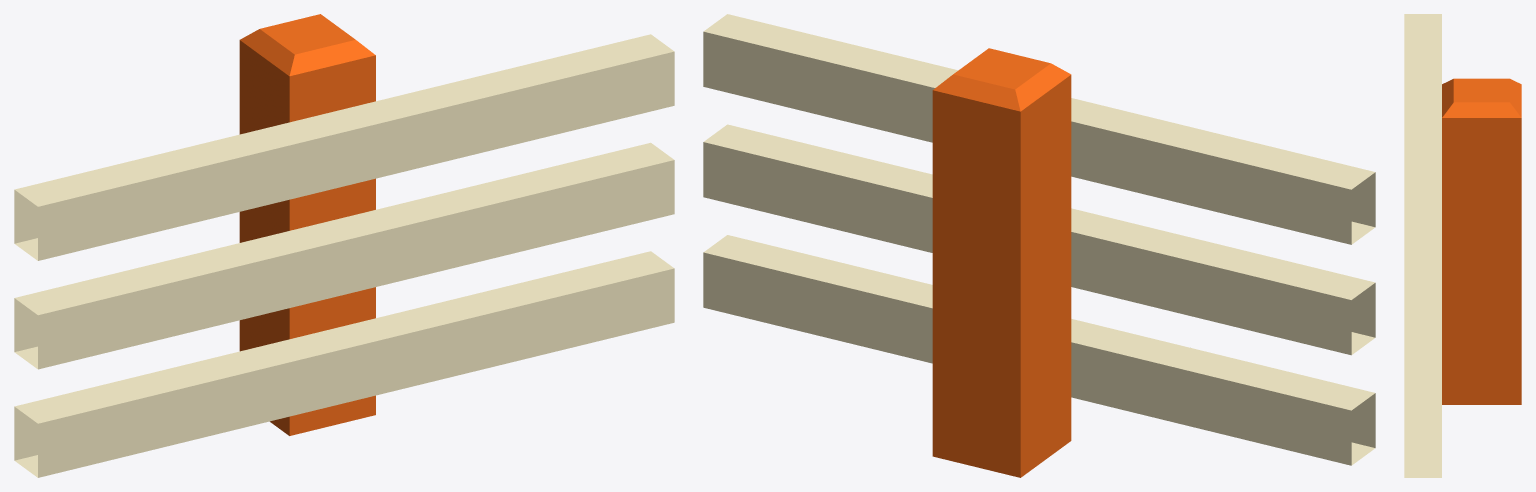
File: Farm_Fence_E_01.fbx
3 renders of one model, left to right at view 1: azimuth 30°, elevation 25°; view 2: azimuth 150°, elevation 25°; view 3: azimuth 270°, elevation 25°, orthographic. The views are drawn at different scales.
Parts seen in each view (by area): view 1: Farm_Fence_E_01; view 2: Farm_Fence_E_01; view 3: Farm_Fence_E_01.
Boxes of the visible parts, <box> form: Farm_Fence_E_01: <box>14,14,674,477</box>; Farm_Fence_E_01: <box>703,14,1375,477</box>; Farm_Fence_E_01: <box>1404,14,1521,477</box>.
Size of the model in its own units: 200 by 112 by 39.99.
